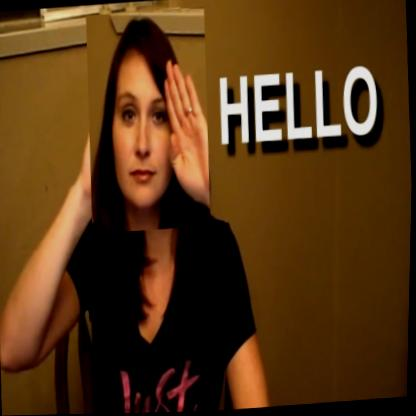Hello: (82, 7, 215, 234)
